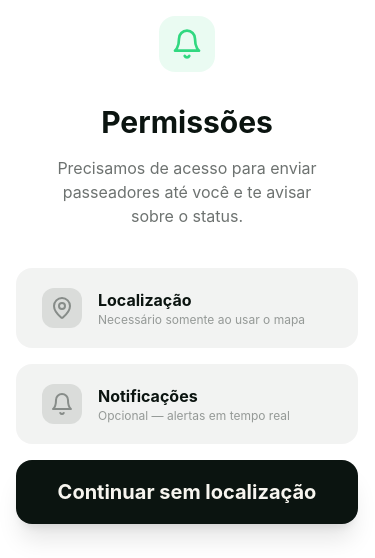
Test: PermissionsStep — localização opcional › permissão concedida → botão principal vira 'Continuar' e avança
Later steps or results of the test are not shown.
Click the button with test id "location-card". click: (187, 308)
box: [16,268,358,348]
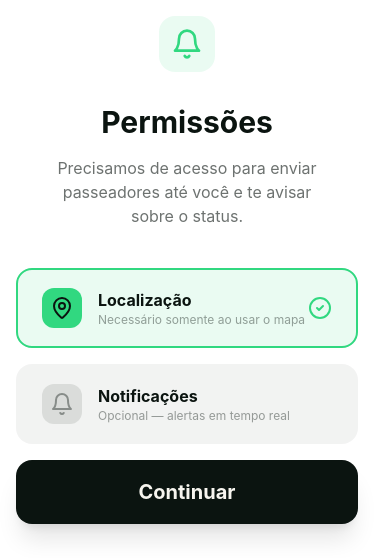
Expected: the button with test id "continue-permissions" is enabled, [16,460,358,524]
Expected: the button with test id "continue-permissions" reads "Continuar", [16,460,358,524]
